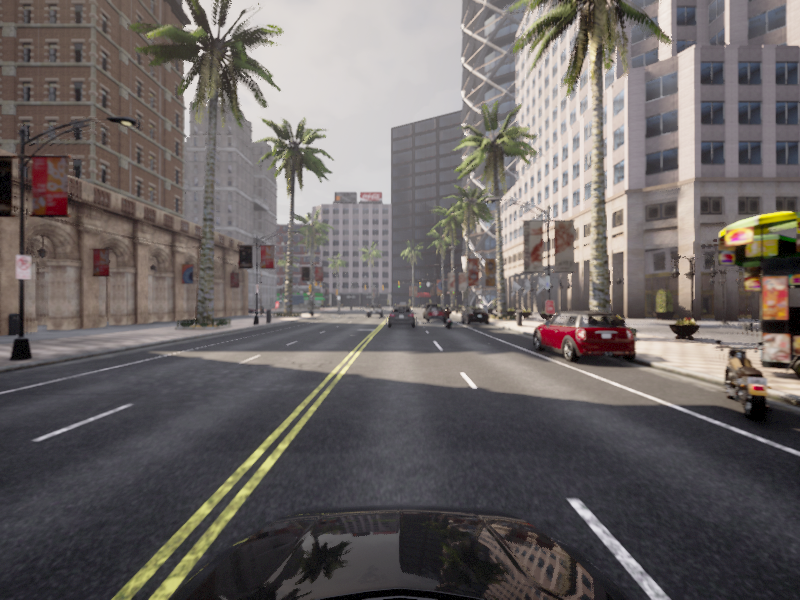vehicle: (387, 305, 415, 327), (424, 305, 447, 322), (391, 304, 412, 319), (441, 306, 454, 329), (422, 303, 440, 319)
